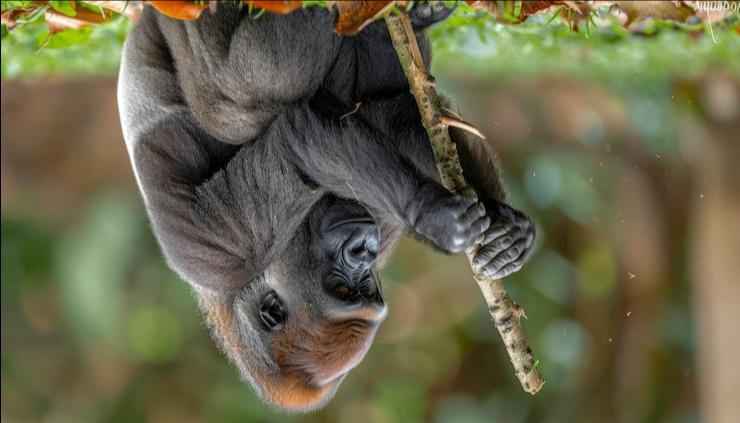gorille_Autres: (62, 0, 544, 422)
